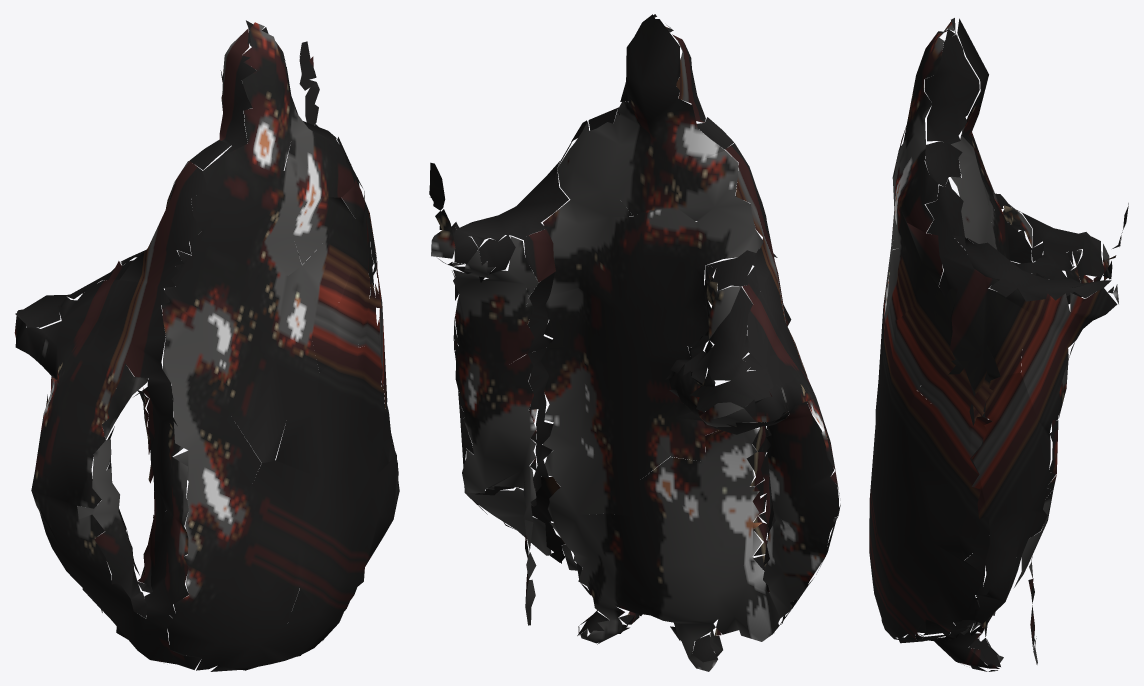
3 views of the same model, side by side, from view 1: azimuth 30°, elevation 25°; view 2: azimuth 150°, elevation 25°; view 3: azimuth 270°, elevation 25° (orthographic).
Parts seen in each view (by area): view 1: body.002; view 2: body.002; view 3: body.002.
Boxes of the visible parts, bbox=[...] form: body.002: bbox=[14, 20, 399, 671]; body.002: bbox=[429, 14, 840, 671]; body.002: bbox=[869, 18, 1128, 671].
Bounding box in the file's own units: 1.22 × 2 × 0.7457.
Materials: 1 (1 with a texture image).
